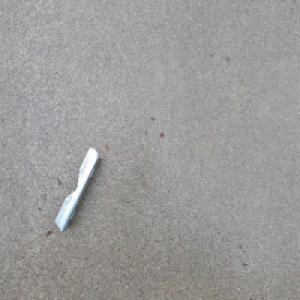ClampPart: (54, 146, 101, 234)
